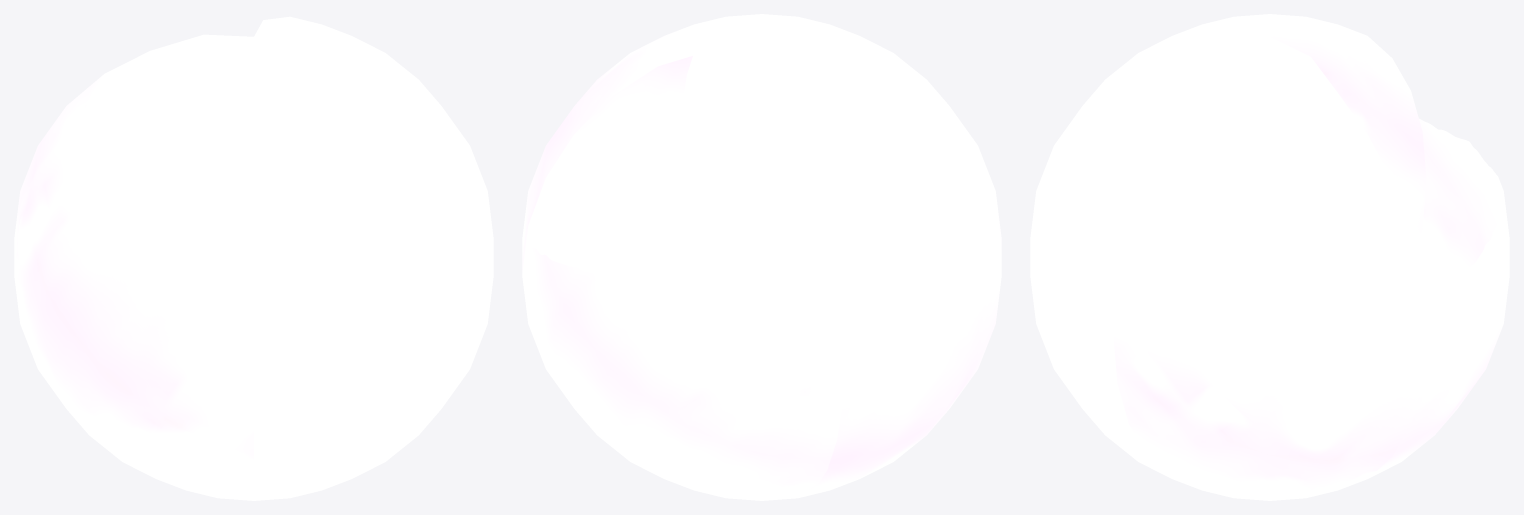
3 renders of one model, left to right at view 1: azimuth 30°, elevation 25°; view 2: azimuth 150°, elevation 25°; view 3: azimuth 270°, elevation 25°, orthographic.
Visible parts, largest first — view 1: SM_Onion_Plant_01v3_LOD0; view 2: SM_Onion_Plant_01v3_LOD0; view 3: SM_Onion_Plant_01v3_LOD0.
Boxes of the visible parts, x1=… form: SM_Onion_Plant_01v3_LOD0: x1=14, y1=16, x2=493, y2=500; SM_Onion_Plant_01v3_LOD0: x1=522, y1=14, x2=1001, y2=500; SM_Onion_Plant_01v3_LOD0: x1=1030, y1=14, x2=1509, y2=500.
Bounding box in the file's own units: 0.4732 × 0.4732 × 0.466.
